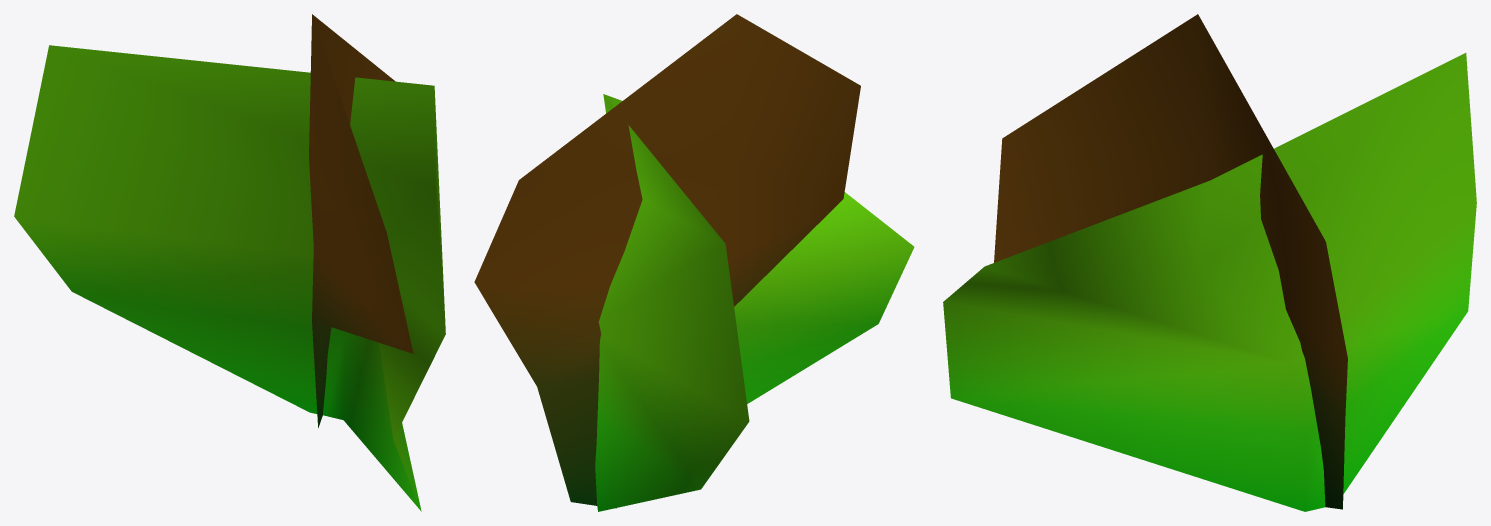
File: Var1Hi27.fbx
The picture shows the model from 3 angles, left to right: view 1: azimuth 30°, elevation 25°; view 2: azimuth 150°, elevation 25°; view 3: azimuth 270°, elevation 25°; orthographic projection. The views are drawn at different scales.
Visible parts, largest first — view 1: bend1; view 2: bend1; view 3: bend1.
Part boxes in pixels (box(x1,y1,x2,y2)): bend1: box(14, 14, 445, 511); bend1: box(474, 14, 914, 511); bend1: box(943, 14, 1476, 511).
Bounding box in the file's own units: 1.03 × 1.36 × 1.42.
